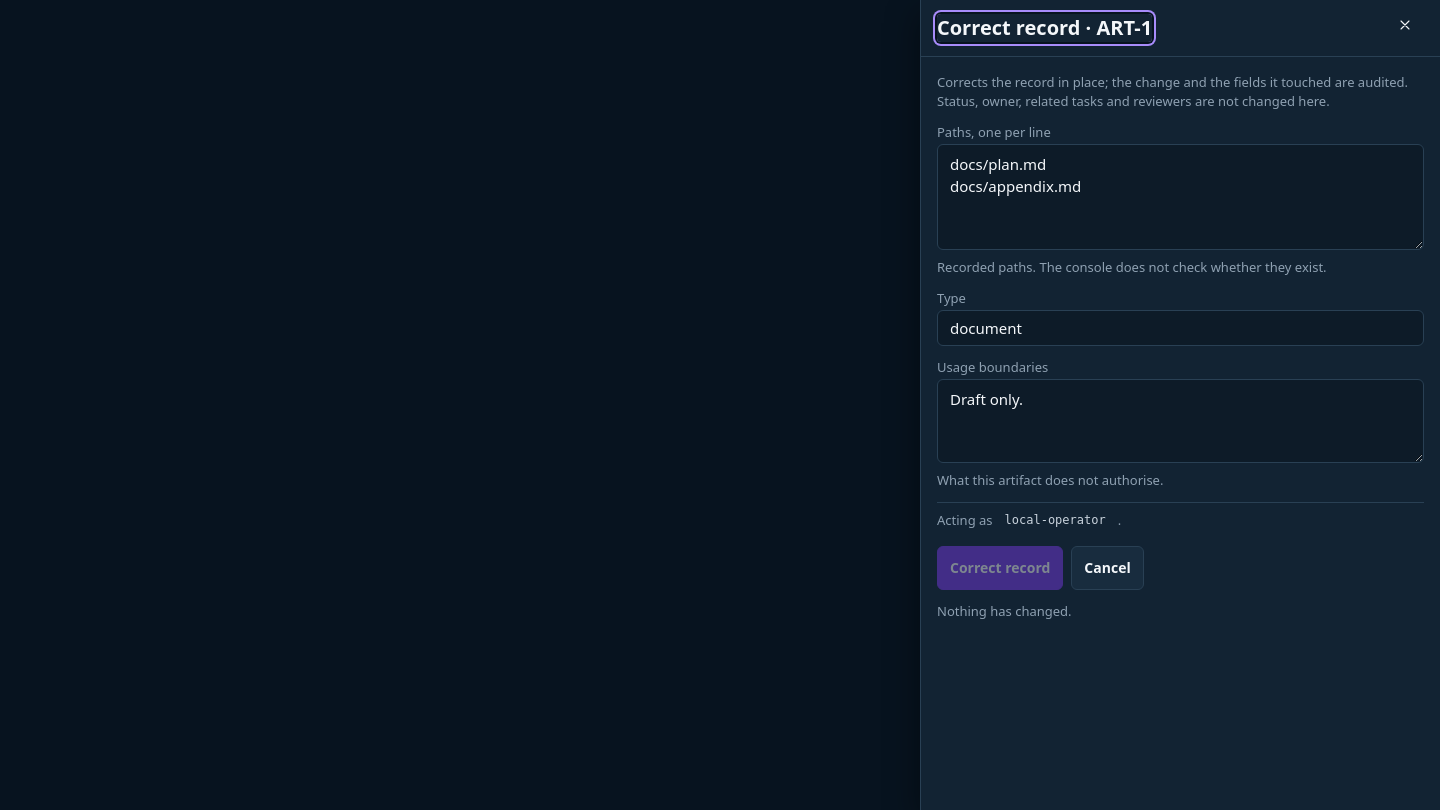
Test case: ArtifactCorrectionForm › names the artifact when it moved underneath, and keeps the draft
Replace the text in the field labelled "Type" with "spec" at (1180, 328), box [937,310,1424,346]
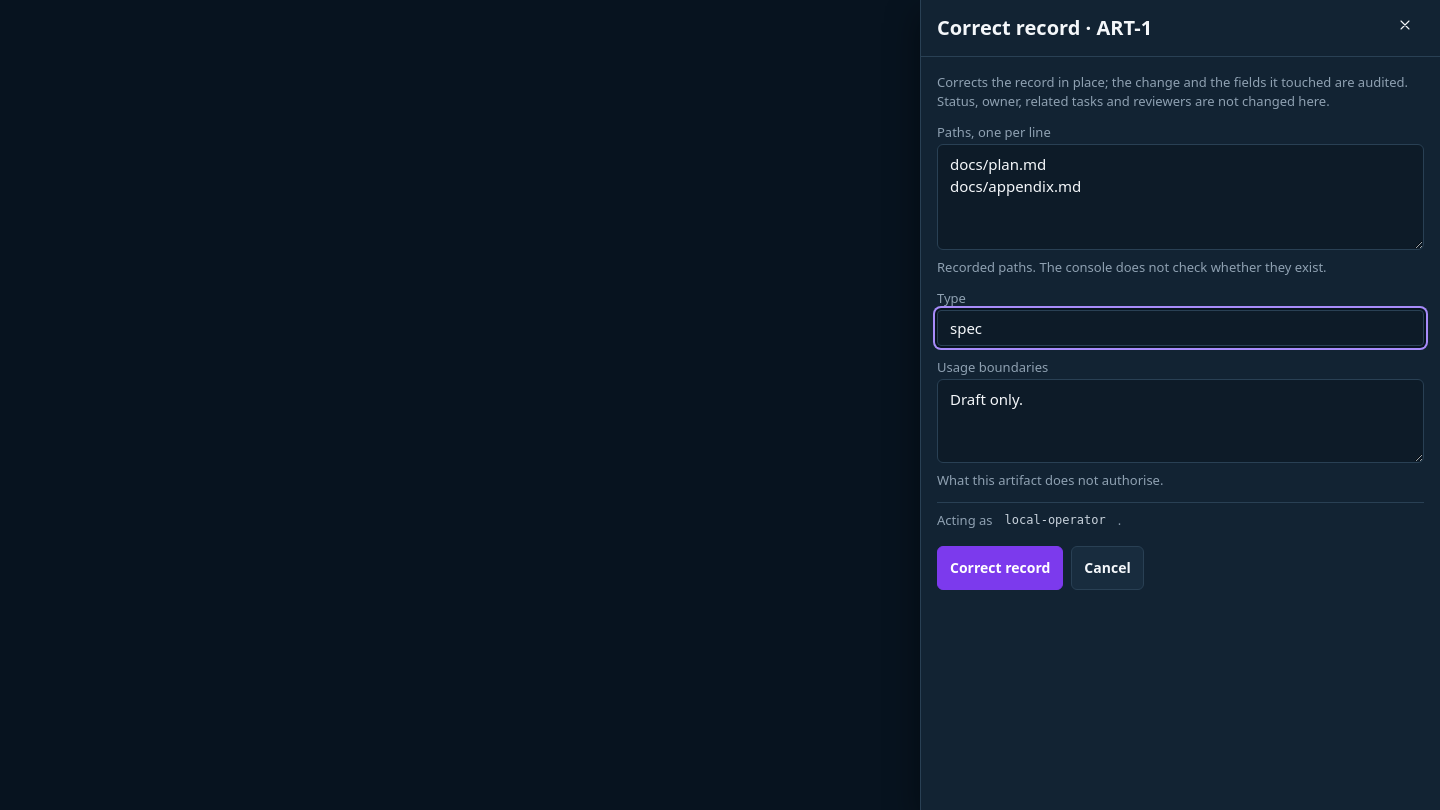
Click the button "Correct record" at (1000, 568), box [937,546,1063,590]
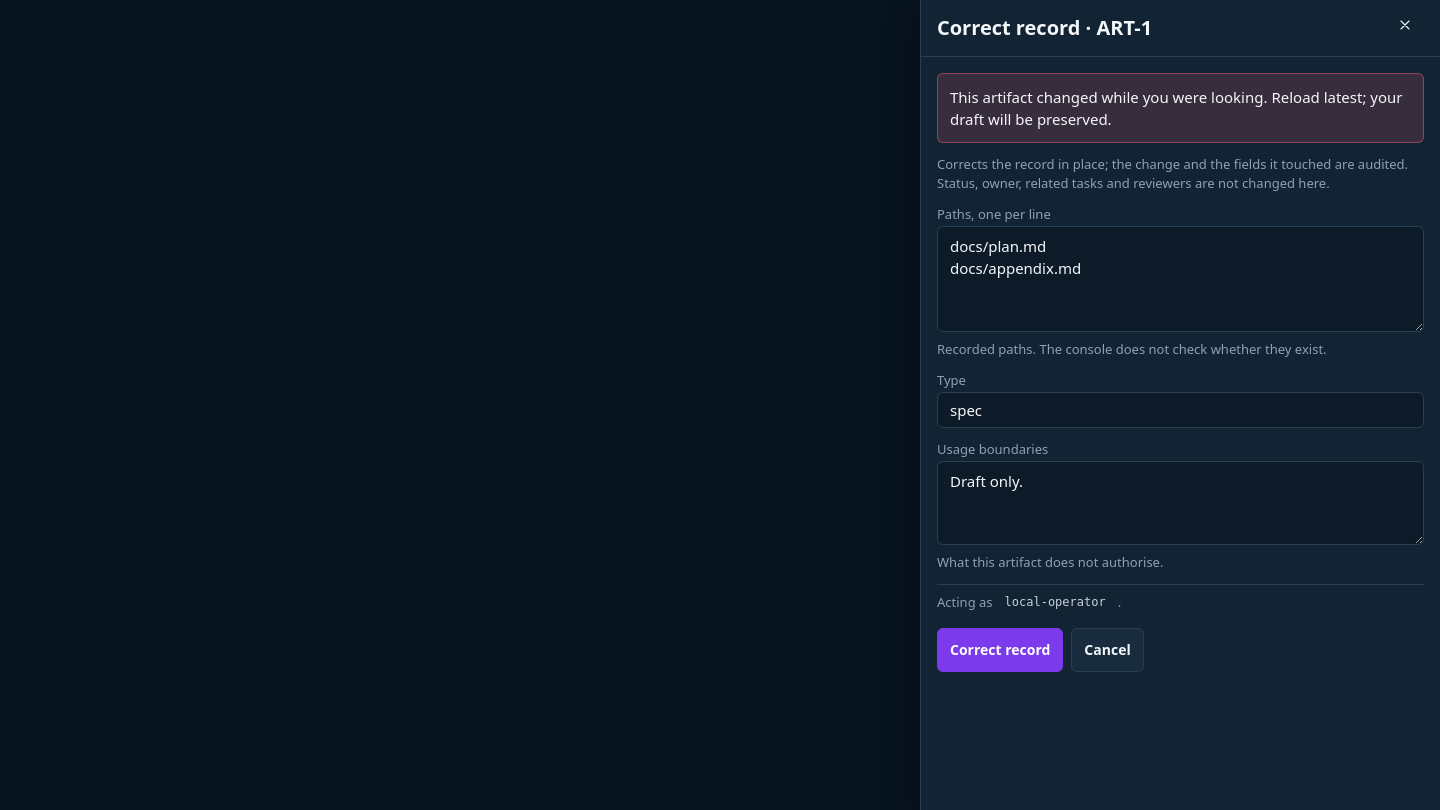
Expected: the text "This artifact changed while you were looking. Reload latest; your draft will be preserved." is shown, [950,87,1402,129]
